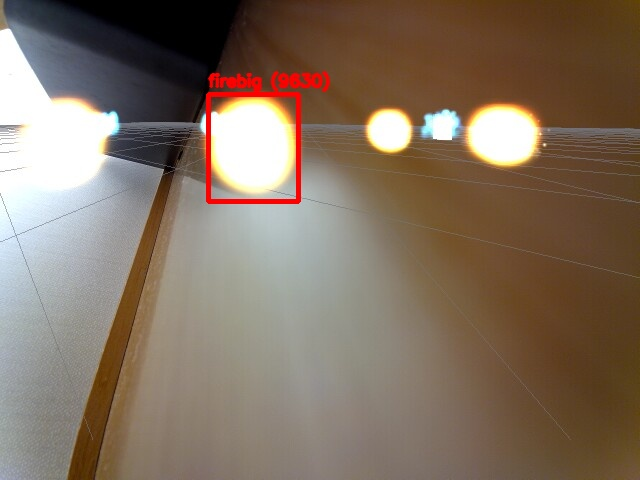firebig: (208, 94, 298, 201)
